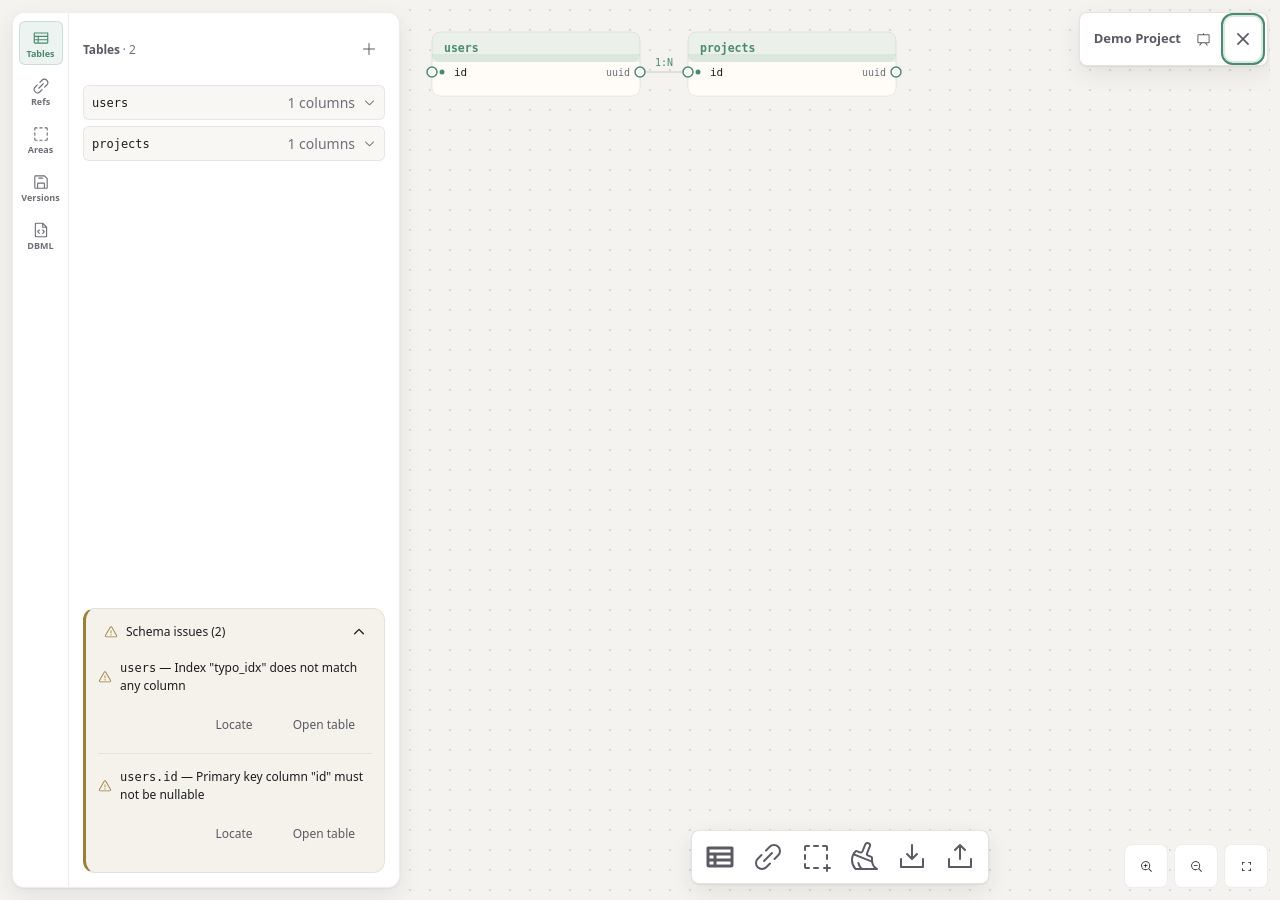
SchemaPage U1 ERD canvas mode › presentasi: tanpa chrome sheet (handle/tab bar ikut di-unmount)
The image size is (1280, 900).
Click the button named "Present". click: point(1203, 39)
box: top-left (1185, 17), bottom-right (1221, 61)
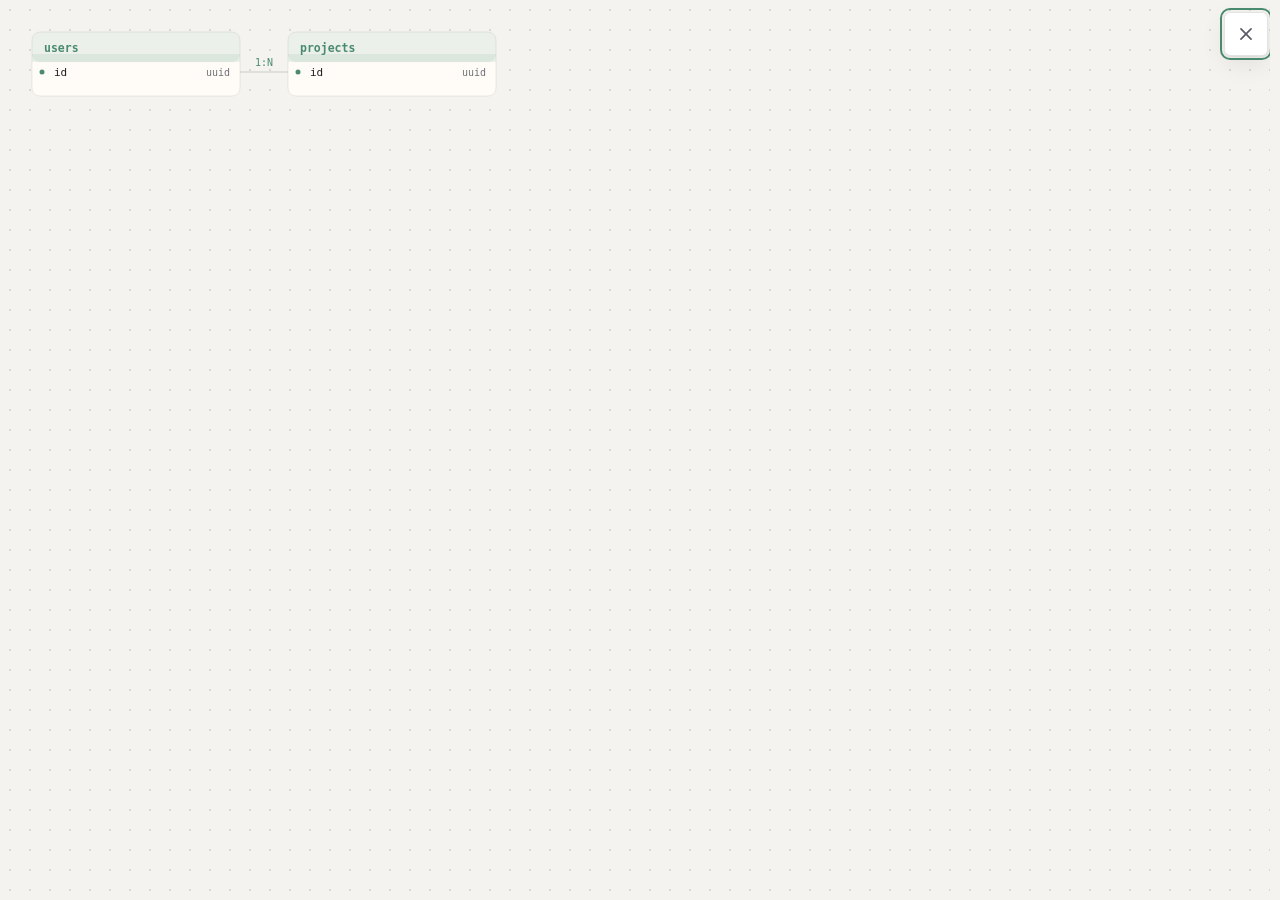
Expected: the element with class "erd-sidebar" is gone
